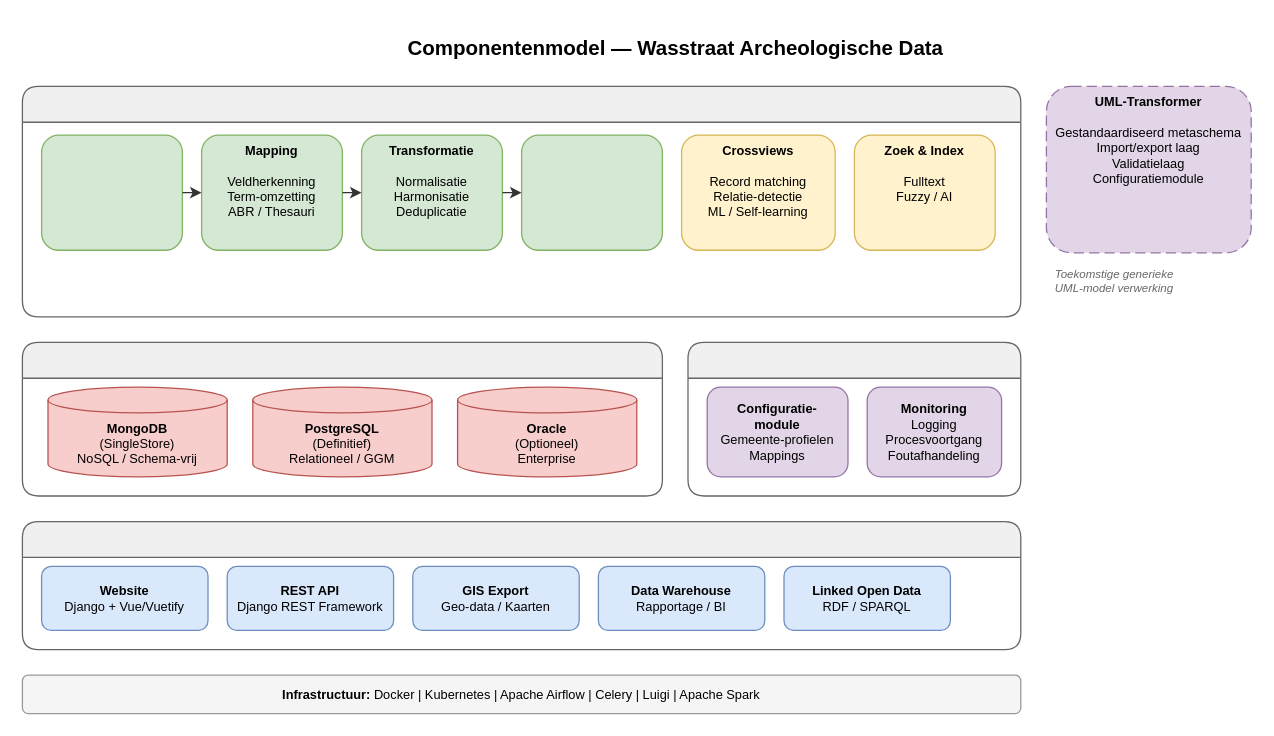
Some shapes in this 1274 by 736 pixel diagram are drawn without their labels. The shapes that lost their labels are listed below. From the top down, each one's box as (x1, y1, x2, y2) in pixels, then its label:
(40, 134, 182, 250): Extractie Python Format detectie Encoding
(21, 85, 1021, 317): Verwerkingslaag (Core Processing)
(520, 134, 662, 250): Validatie Data logica Caching Concurrency
(21, 341, 662, 496): Opslaglaag (Storage)
(687, 341, 1021, 496): Beheer & Configuratie
(21, 520, 1021, 650): Presentatielaag (Output)
